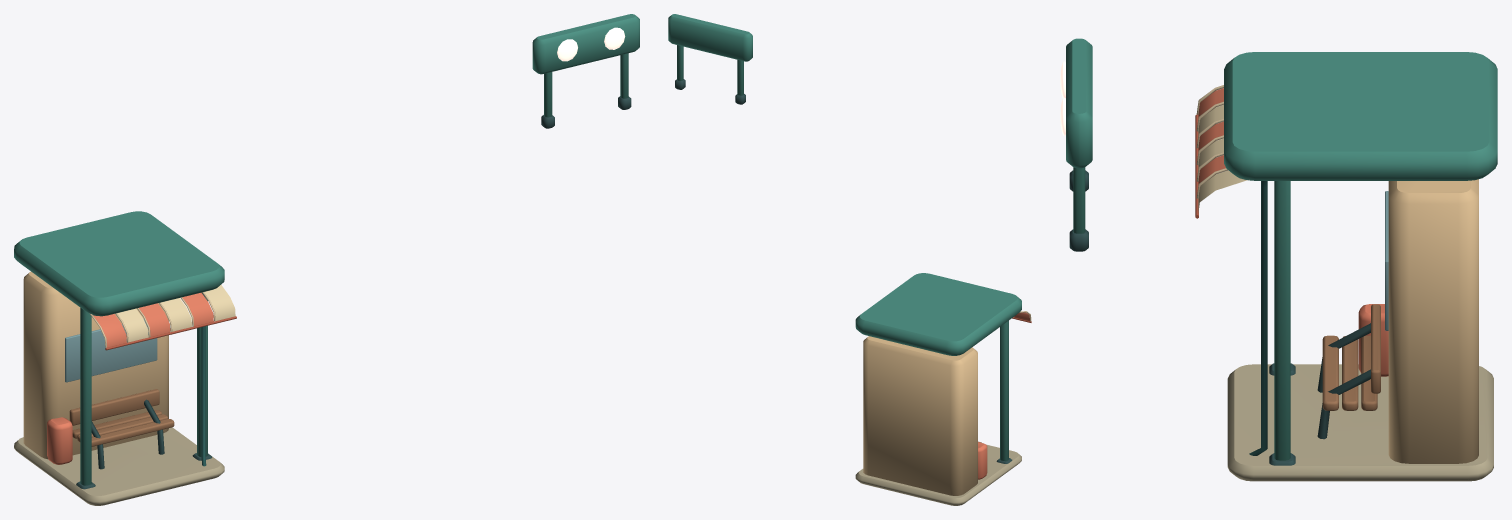
Rendered from tropical_resort_4.glb.
The picture shows the model from 3 angles, left to right: view 1: azimuth 30°, elevation 25°; view 2: azimuth 150°, elevation 25°; view 3: azimuth 270°, elevation 25°; orthographic projection. The views are drawn at different scales.
Visible parts, largest first — view 1: TropicalResort4; view 2: TropicalResort4; view 3: TropicalResort4.
Part boxes in pixels (left/top/right/bottom): TropicalResort4: left=14, top=14, right=639, bottom=505; TropicalResort4: left=668, top=14, right=1031, bottom=505; TropicalResort4: left=1060, top=38, right=1497, bottom=481.
Bounding box in the file's own units: 8.5 × 6.64 × 4.08.
